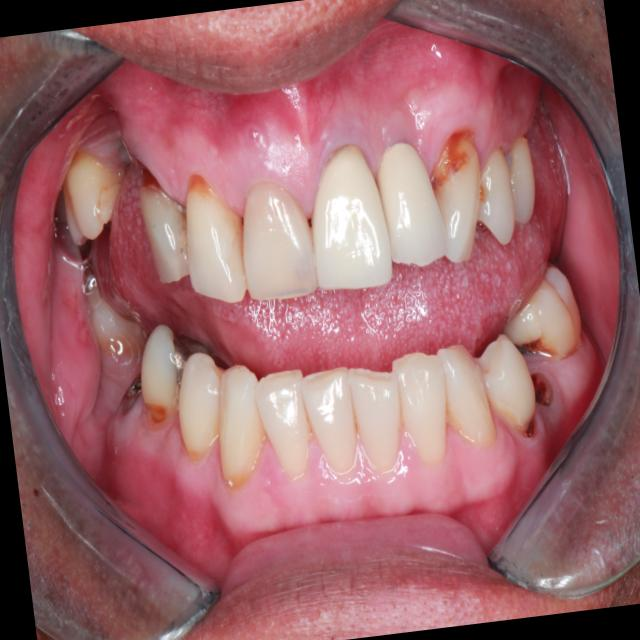tooth: (296, 130, 399, 303), (417, 118, 498, 285), (366, 129, 452, 284), (172, 158, 257, 313), (228, 171, 322, 311), (488, 245, 591, 371), (160, 337, 245, 475), (131, 311, 221, 439), (203, 354, 281, 496), (50, 131, 138, 253), (385, 341, 461, 478), (131, 155, 206, 289), (69, 247, 151, 368), (294, 356, 368, 490), (249, 356, 321, 491), (469, 322, 547, 444), (343, 349, 414, 481), (431, 330, 500, 460), (465, 131, 523, 255), (497, 125, 544, 232)
